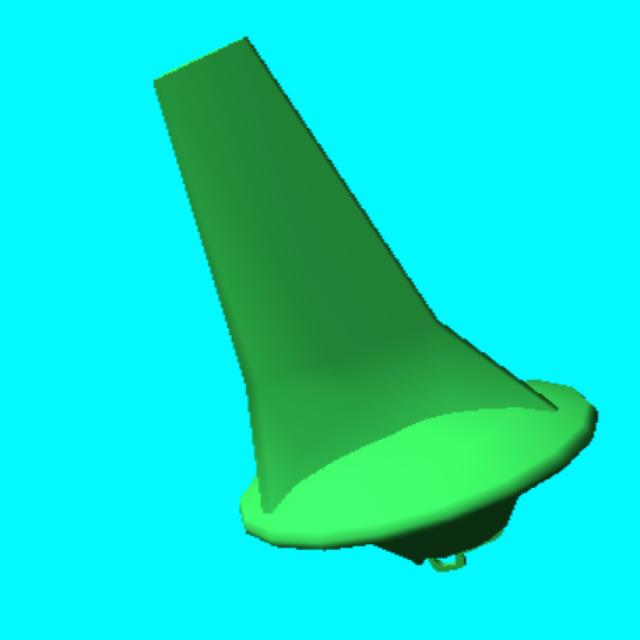GreenBuoy: (154, 39, 556, 513)
